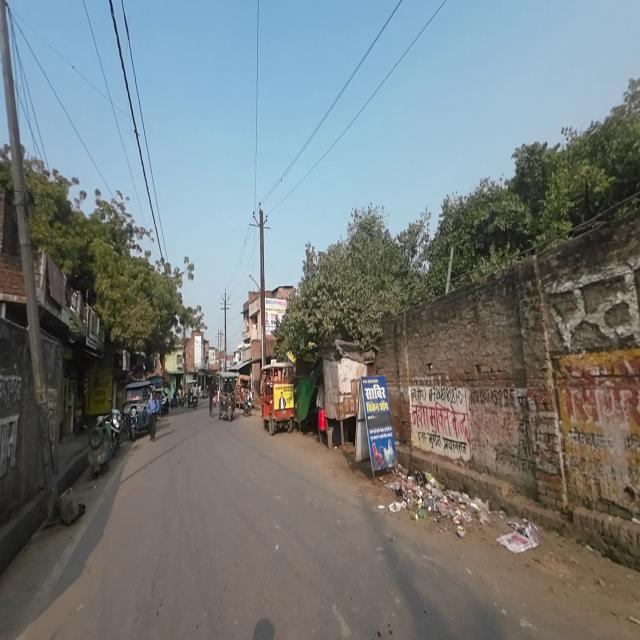Garbage: (389, 470, 443, 512), (446, 491, 489, 532), (497, 515, 538, 553)
